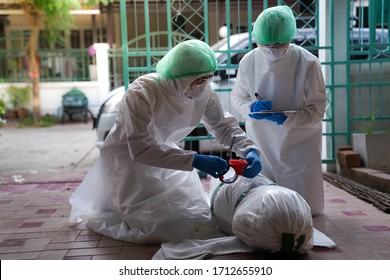doctor: (106, 39, 260, 207), (229, 5, 328, 192)
patient: (188, 166, 316, 247)
